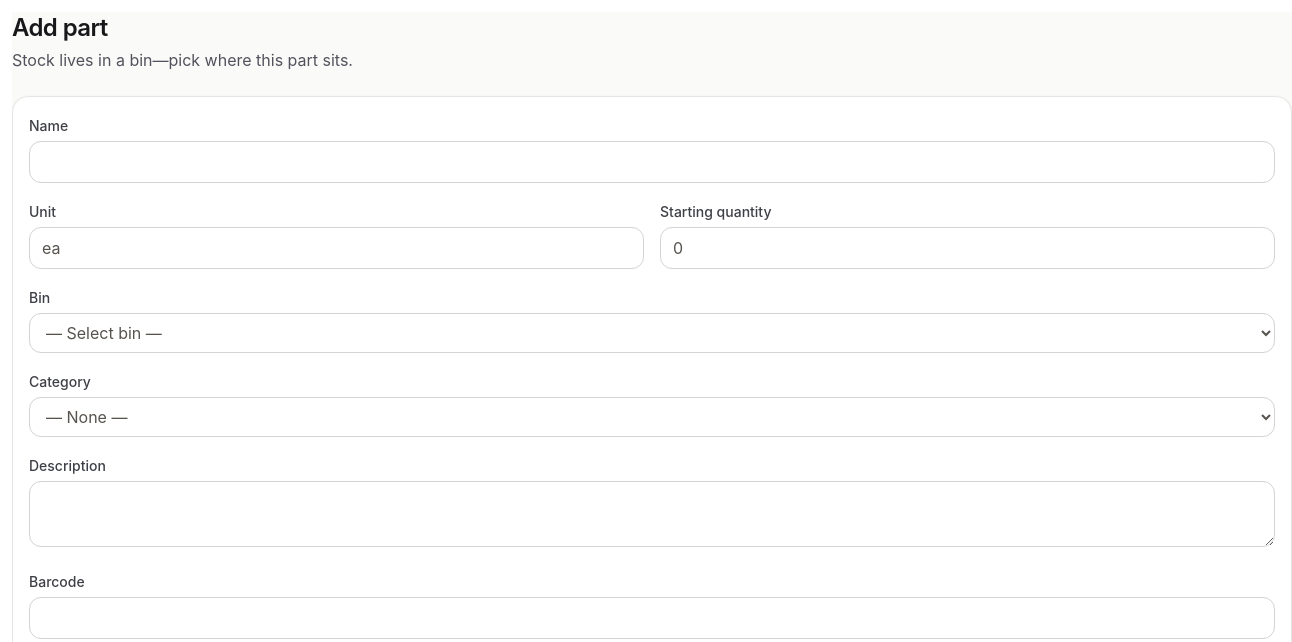
Test: Item forms dynamic category attributes › resets dynamic values when category changes in create form
Step 1. Select "Cat A" in the dropdown labelled "Category" → point(652, 417), box [29, 397, 1275, 437]
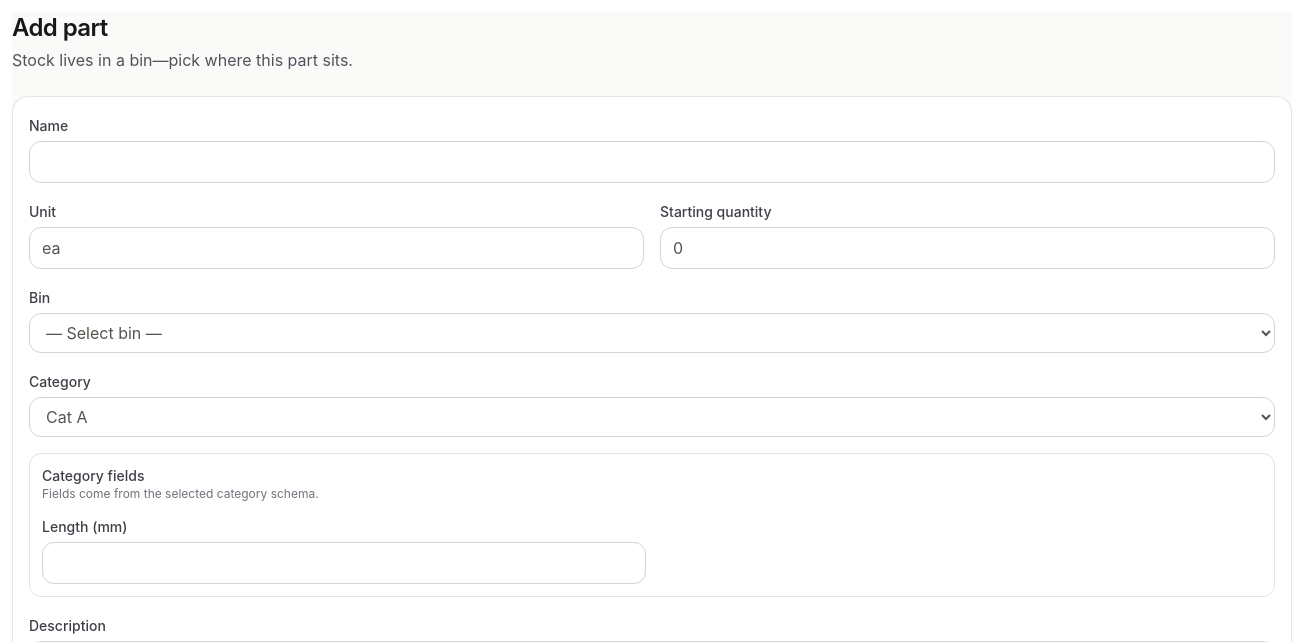
Step 2. Type "42" into the number field labelled "Length (mm)" → point(344, 563), box [42, 542, 646, 584]
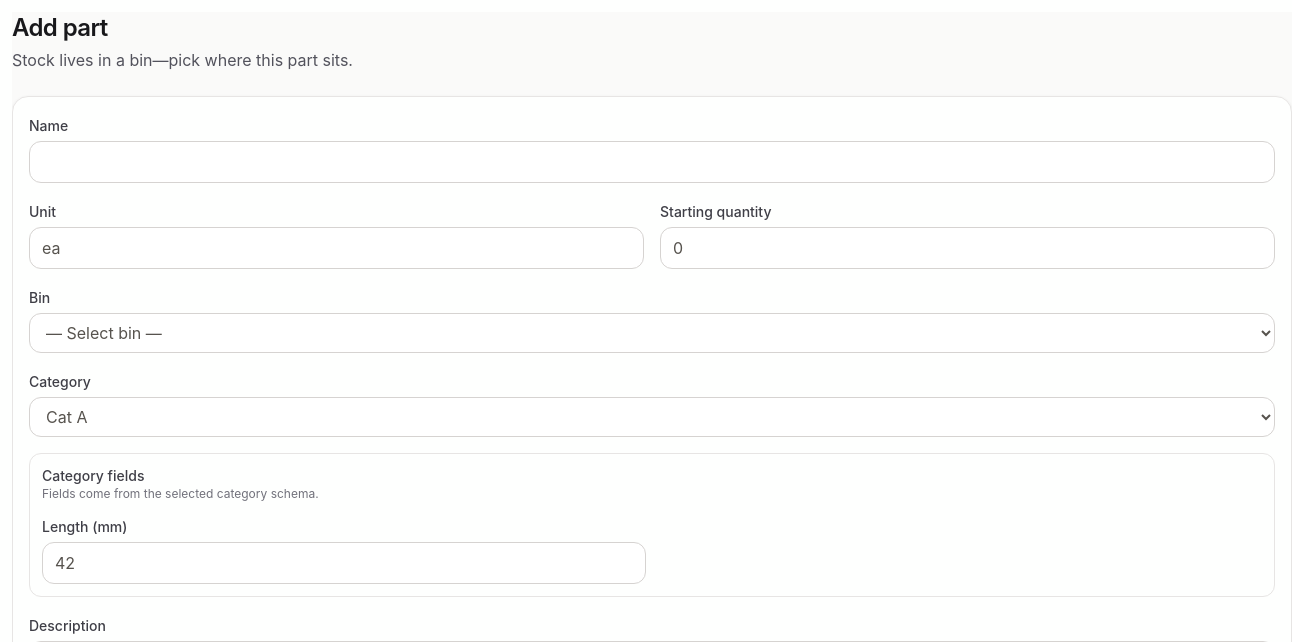
Step 3. Select "Cat B" in the dropdown labelled "Category" → point(652, 417), box [29, 397, 1275, 437]
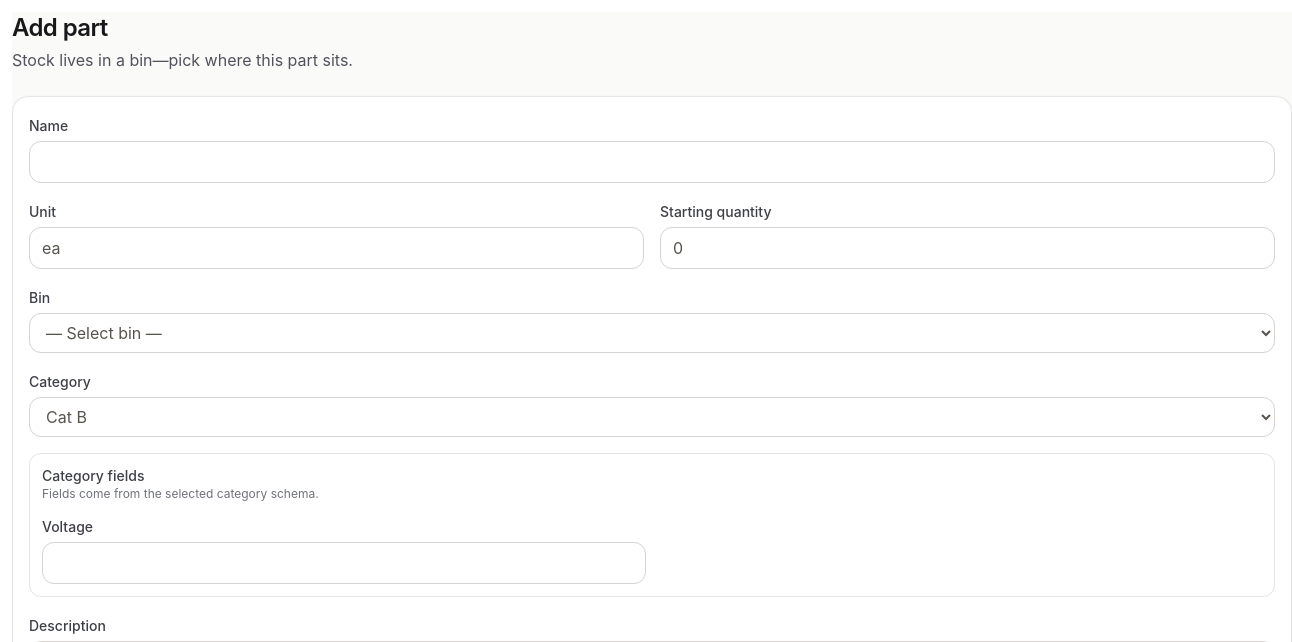
Expected: the label labelled "Length (mm)" is gone
Expected: the field labelled "Voltage" is empty, [42, 542, 646, 584]
